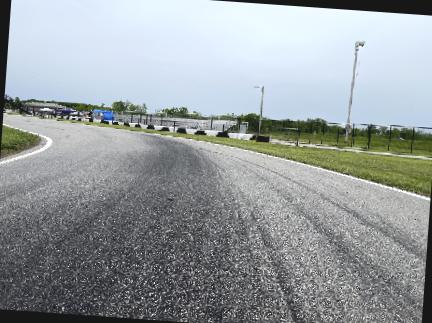Grass: (54, 119, 431, 196), (1, 126, 38, 149)
Lane: (0, 114, 429, 322)
